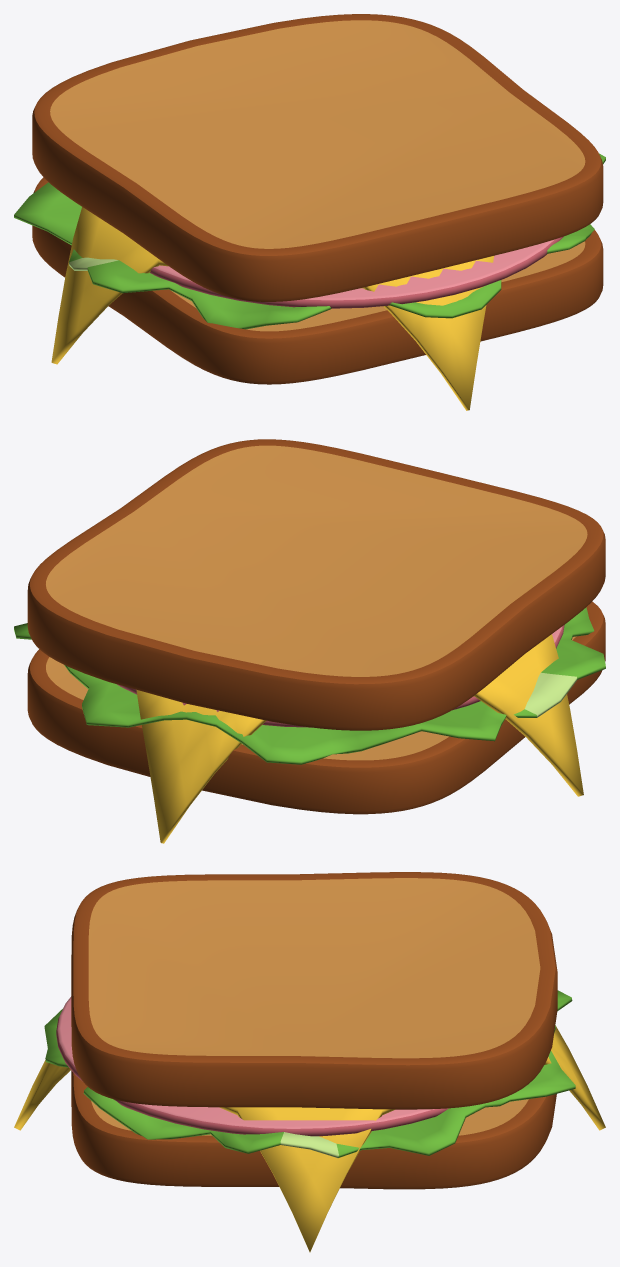
File: Toasted_Sandwich.fbx
3 renders of one model, top to bottom at view 1: azimuth 30°, elevation 25°; view 2: azimuth 150°, elevation 25°; view 3: azimuth 270°, elevation 25°, orthographic. The views are drawn at different scales.
Parts seen in each view (by area): view 1: Toasted_Sandwich; view 2: Toasted_Sandwich; view 3: Toasted_Sandwich.
Part boxes in pixels (x1,y1,x2,y2): Toasted_Sandwich: [14, 14, 605, 410]; Toasted_Sandwich: [14, 439, 605, 843]; Toasted_Sandwich: [14, 872, 605, 1252].
Bounding box in the file's own units: 0.1446 × 0.044 × 0.1446.
